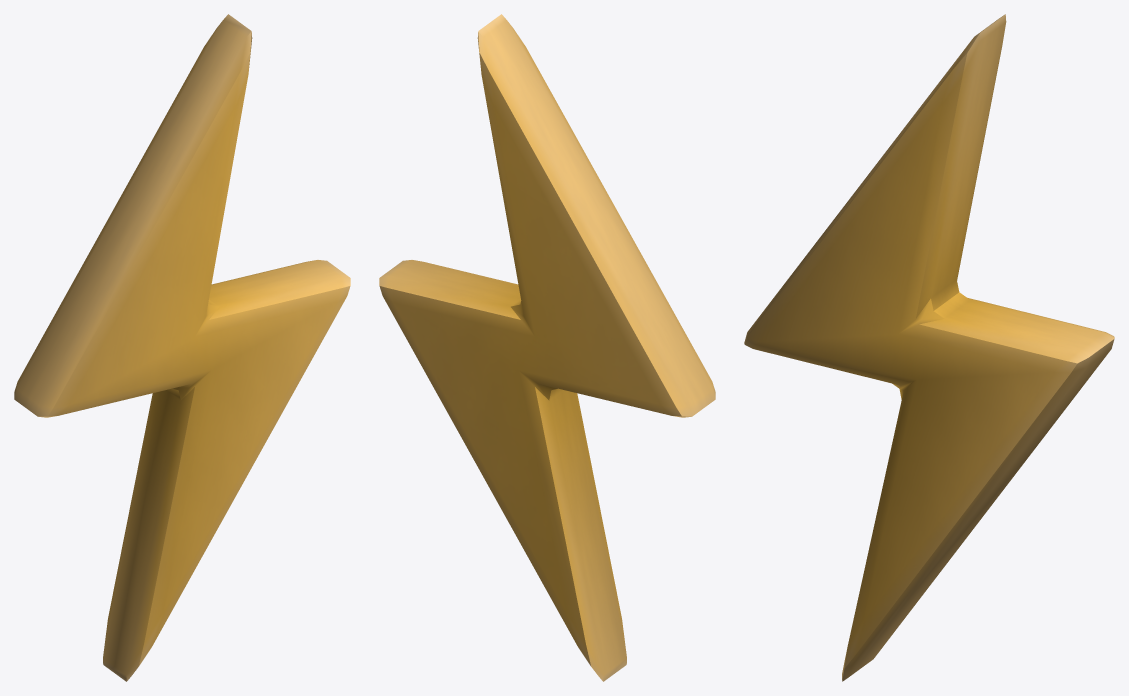
The model's file is EnergyBolt.fbx.
The picture shows the model from 3 angles, left to right: view 1: azimuth 30°, elevation 25°; view 2: azimuth 150°, elevation 25°; view 3: azimuth 330°, elevation 25°; orthographic projection. The views are drawn at different scales.
Visible parts, largest first — view 1: EnergyBolt; view 2: EnergyBolt; view 3: EnergyBolt.
Part boxes in pixels (bbox=[...]): EnergyBolt: bbox=[14, 14, 350, 681]; EnergyBolt: bbox=[379, 14, 715, 681]; EnergyBolt: bbox=[744, 14, 1114, 681].
Size of the model in its own units: 61.66 by 117 by 14.
